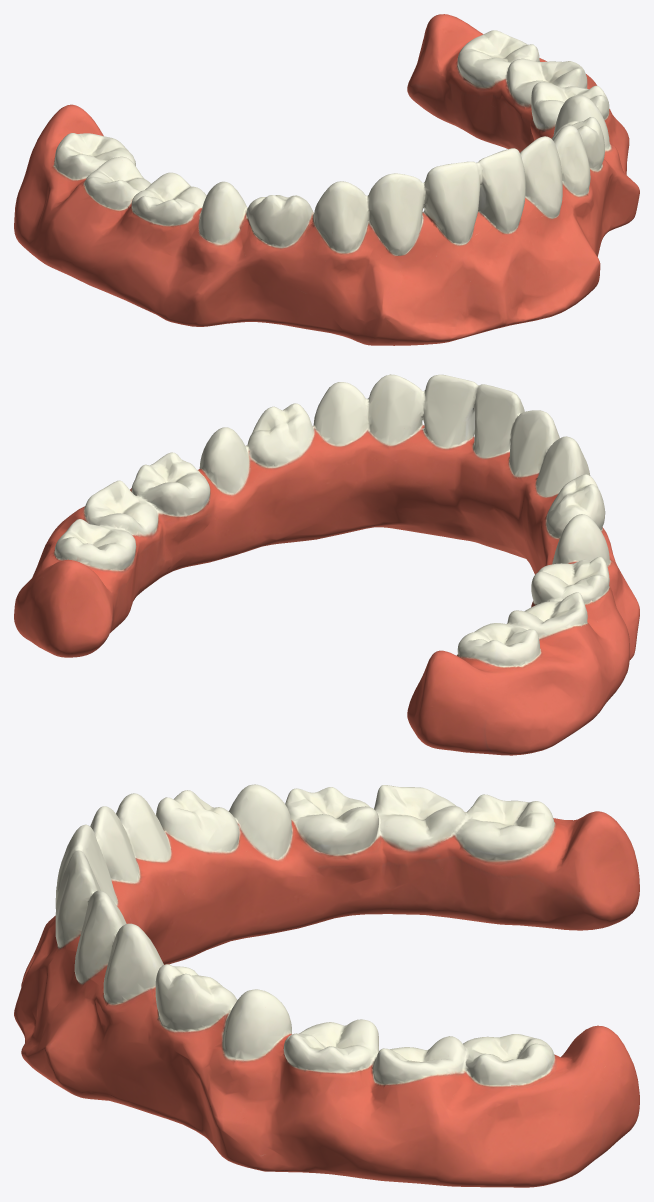
The model's file is Part_LowerTeethArch.glb.
3 views of the same model, one above another, from view 1: azimuth 30°, elevation 25°; view 2: azimuth 150°, elevation 25°; view 3: azimuth 270°, elevation 25° (orthographic). The views are drawn at different scales.
Bounding box in the file's own units: 1.9 × 0.5352 × 1.57.
Materials: 1 (1 with a texture image).
